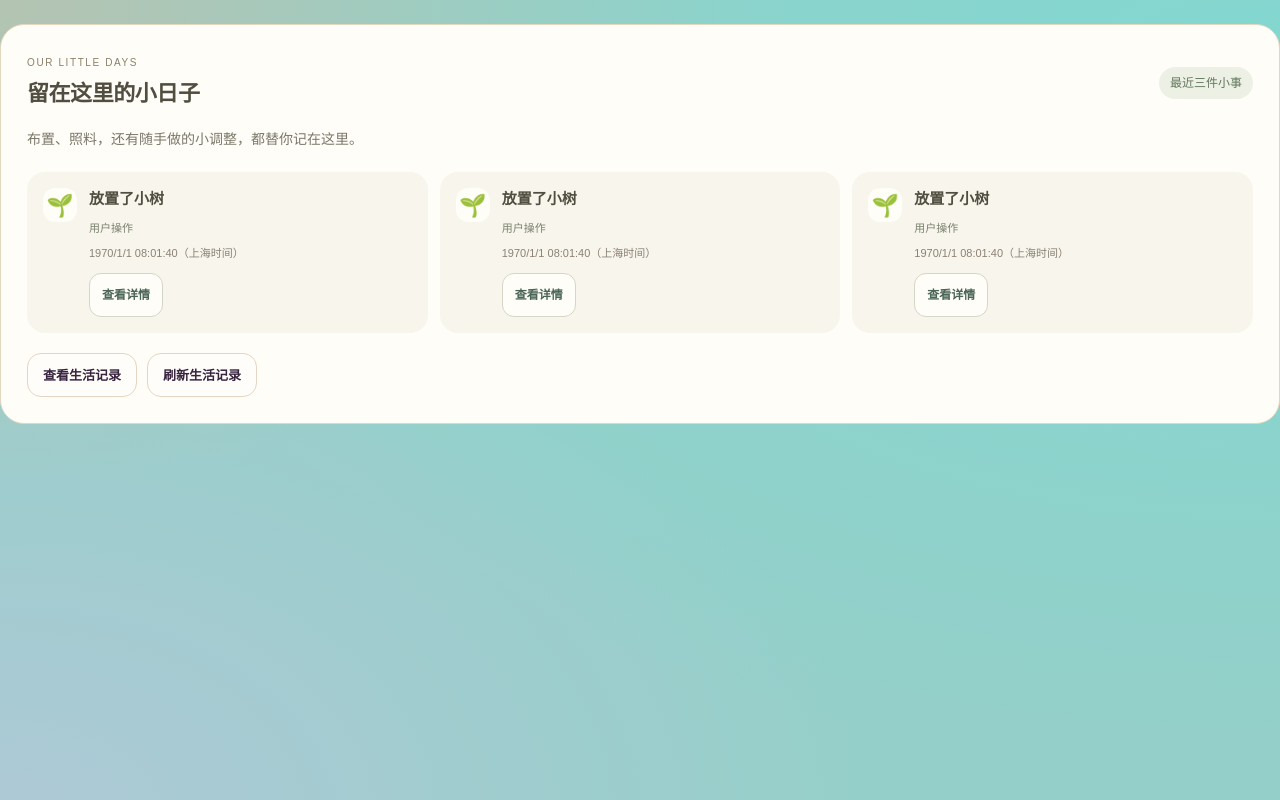
Scenario: shows only three facts initially and can expand or collapse
Expected: the text "用户操作" is shown 3 times, [89,222,133,234]; [502,222,546,234]; [914,222,958,234]
Click the button "查看生活记录".
click(82, 376)  # box [27,354,137,398]
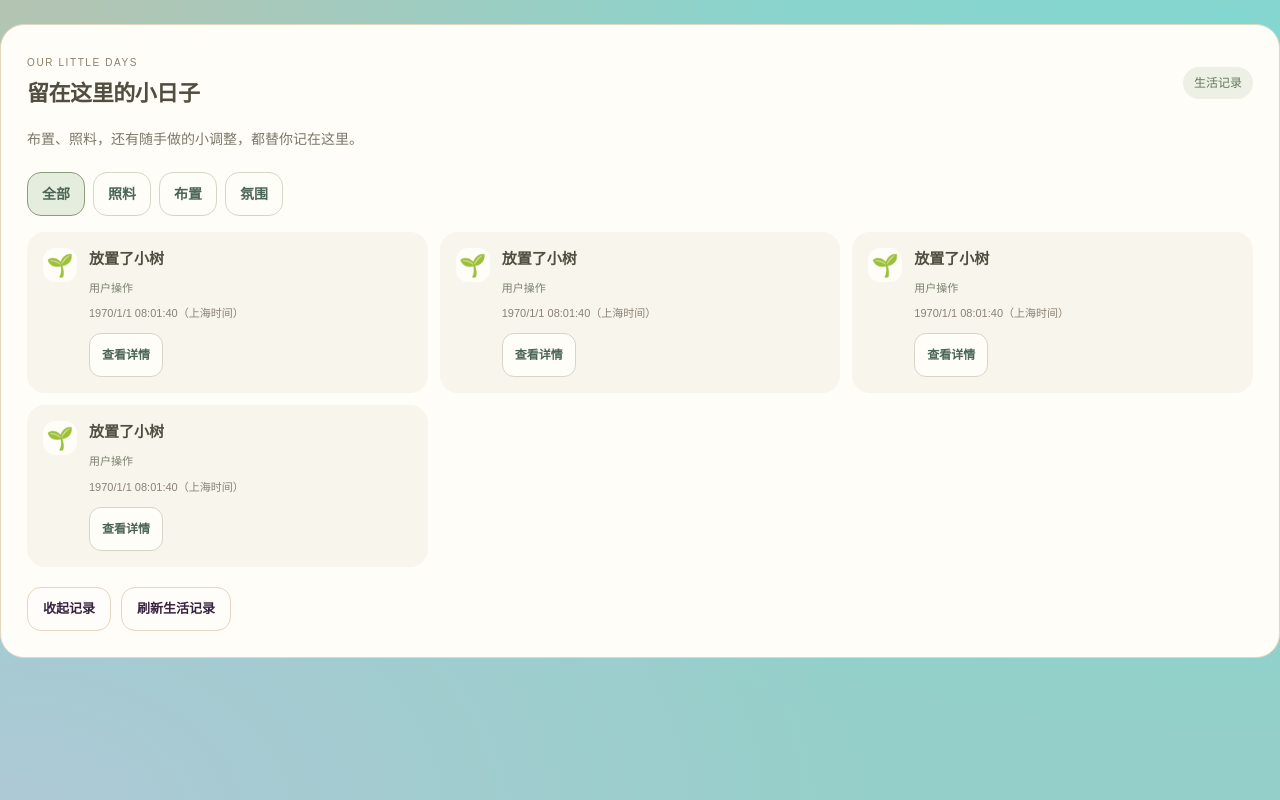
Expected: the text "用户操作" is shown 4 times, [89,282,133,294]; [502,282,546,294]; [914,282,958,294]; [89,455,133,467]
Click the button "收起记录".
click(69, 609)  # box [27,587,111,631]
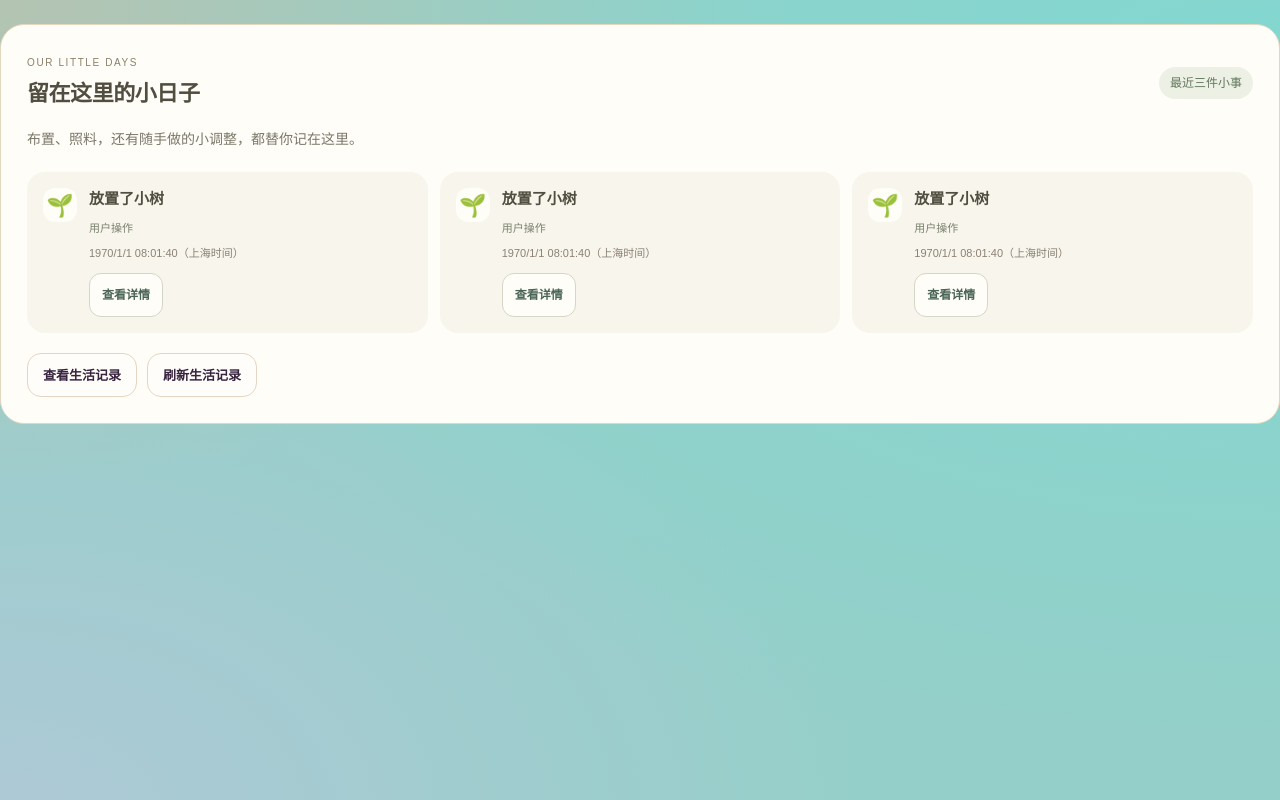
Expected: the text "用户操作" is shown 3 times, [89,222,133,234]; [502,222,546,234]; [914,222,958,234]
